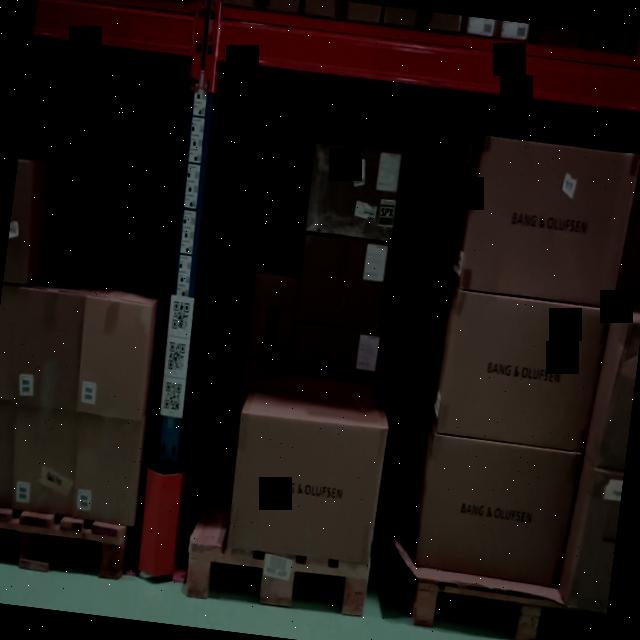box: (468, 136, 629, 304), (439, 293, 602, 449), (224, 415, 384, 565), (420, 436, 572, 588), (304, 143, 402, 242), (77, 300, 154, 418), (11, 290, 87, 408), (295, 235, 387, 328), (70, 417, 146, 525), (567, 469, 623, 611), (9, 408, 82, 512), (596, 317, 640, 467), (94, 162, 148, 258), (2, 158, 34, 281), (143, 170, 183, 263), (246, 294, 296, 360), (0, 283, 23, 400), (0, 402, 15, 503)
